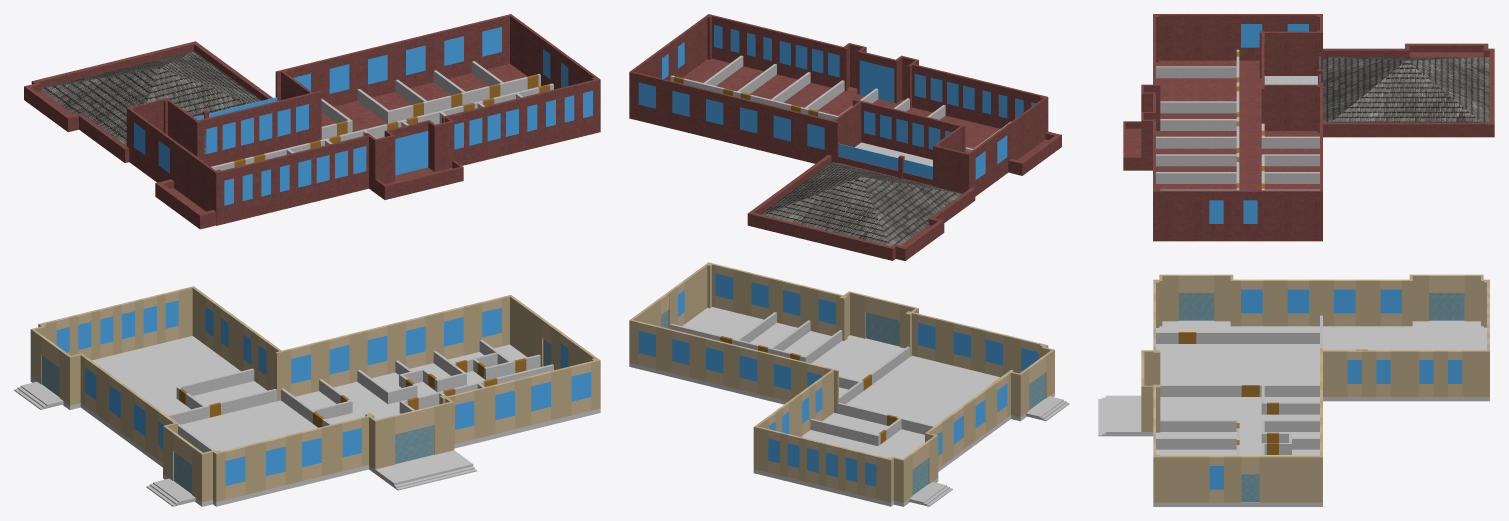
Rendered from Residential_Building_expansion.glb.
The picture shows the model from 3 angles, left to right: view 1: azimuth 30°, elevation 25°; view 2: azimuth 150°, elevation 25°; view 3: azimuth 270°, elevation 25°; orthographic projection. The views are drawn at different scales.
Visible parts, largest first — view 1: Floor1, Floor2; view 2: Floor1, Floor2; view 3: Floor1, Floor2.
Boxes of the visible parts, <box> form: Floor1: <box>14,286,600,506</box>; Floor2: <box>24,14,600,229</box>; Floor1: <box>629,262,1069,506</box>; Floor2: <box>629,14,1061,260</box>; Floor1: <box>1098,274,1489,506</box>; Floor2: <box>1123,14,1494,241</box>.
Bounding box in the file's own units: 38.34 × 29.2 × 33.23.
7 materials, 7 textured.
